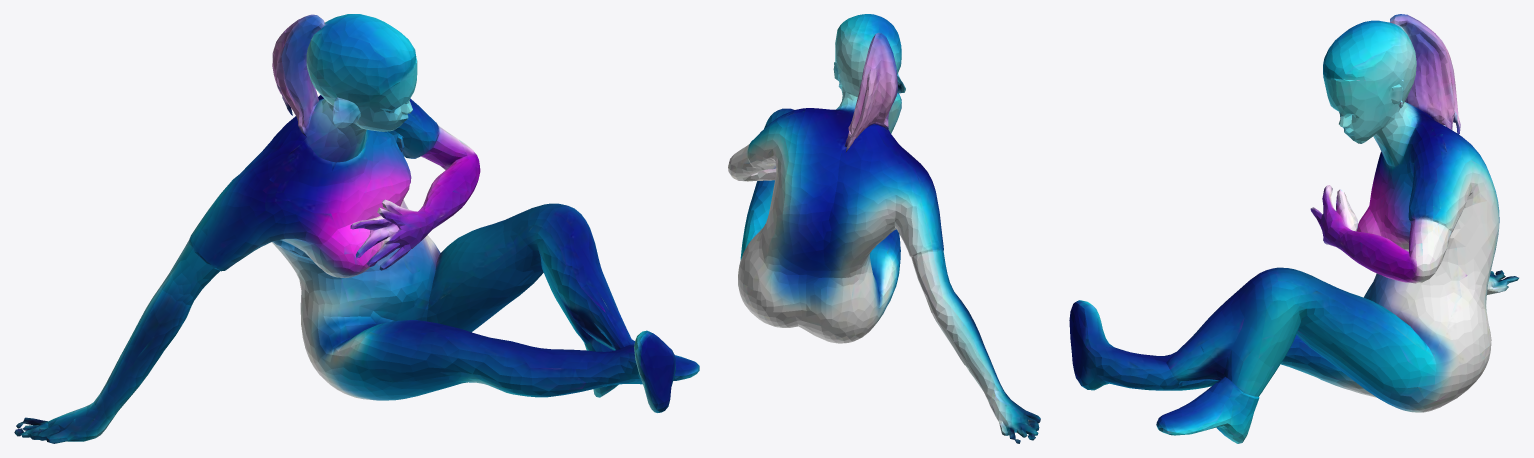
File: Pain.glb
3 views of the same model, side by side, from view 1: azimuth 30°, elevation 25°; view 2: azimuth 150°, elevation 25°; view 3: azimuth 270°, elevation 25° (orthographic). The views are drawn at different scales.
Visible parts, largest first — view 1: Pain; view 2: Pain; view 3: Pain.
Part boxes in pixels (x1,y1,x2,y2): Pain: [14, 14, 699, 443]; Pain: [728, 14, 1040, 443]; Pain: [1069, 14, 1518, 443].
Bounding box in the file's own units: 2.12 × 1.61 × 1.75.
Materials: 1 (1 with a texture image).
